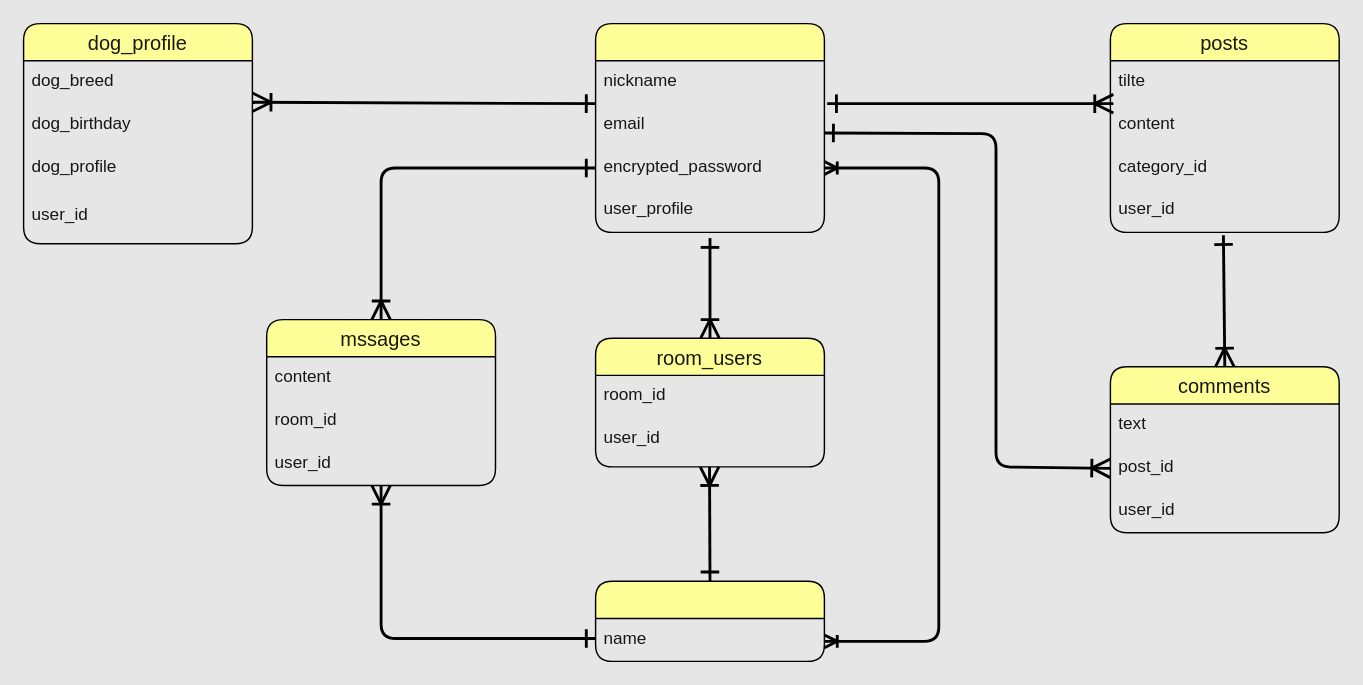
This 1363x685 diagram has some shape labels left out. The box of each missing label's shape, as (x1, y1, x2, y2) in pixels:
rooms: (594, 580, 824, 661)
users: (594, 22, 824, 232)
